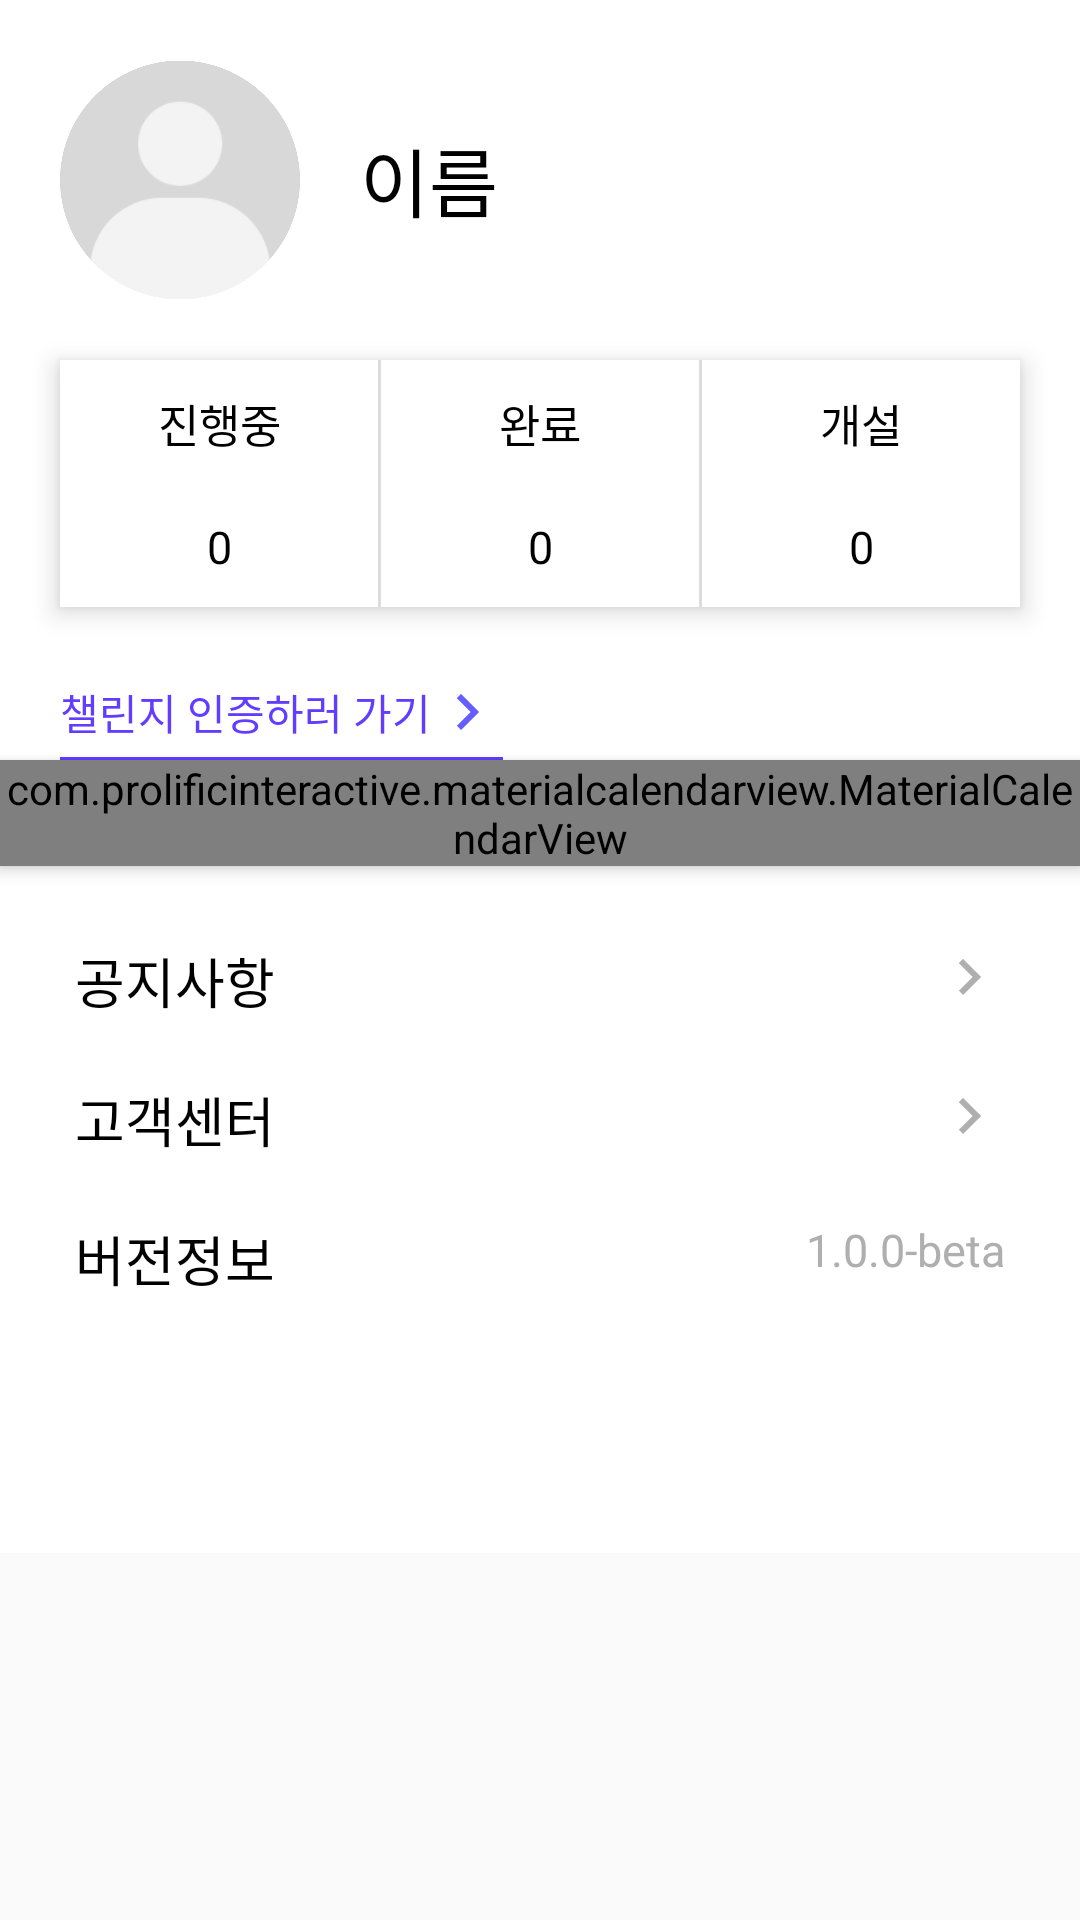

Named icons in this screenshot (1080×1920) and their centers, (x,y):
profile: (180,160)
right arrow: (970,977), (970,1116)
rightblue: (468,712)
